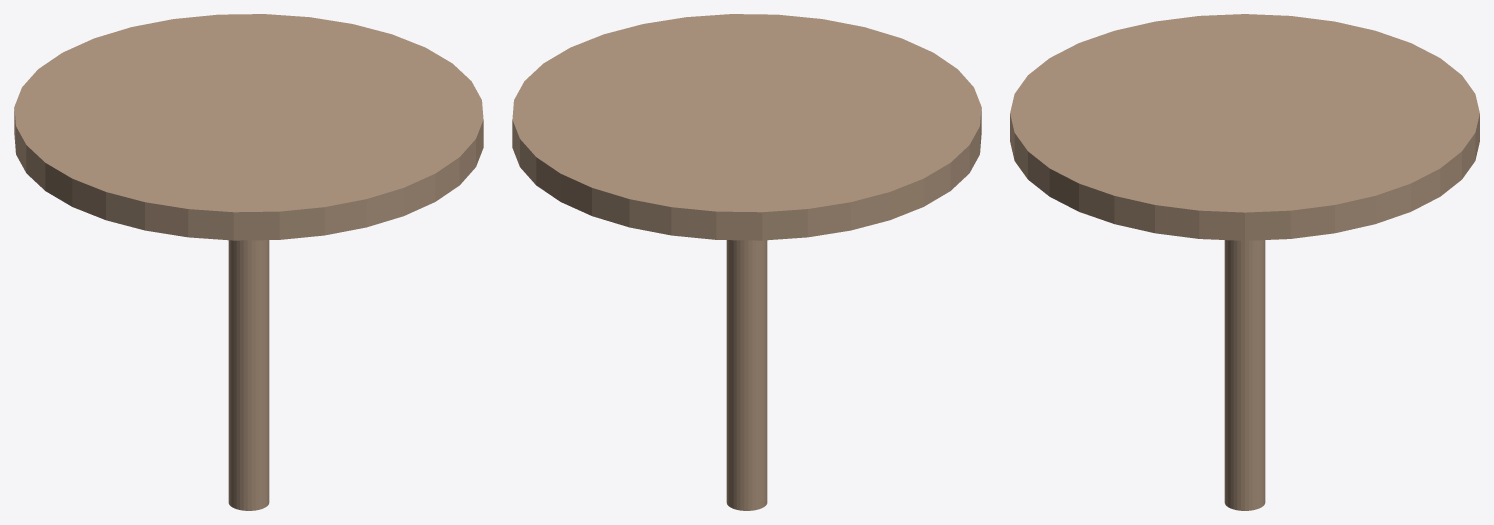
File: field.fbx
3 views of the same model, side by side, from view 1: azimuth 30°, elevation 25°; view 2: azimuth 150°, elevation 25°; view 3: azimuth 270°, elevation 25° (orthographic).
Parts seen in each view (by area): view 1: 圓柱體.001, 圓柱體; view 2: 圓柱體.001, 圓柱體; view 3: 圓柱體.001, 圓柱體.
Part boxes in pixels (x1=…): 圓柱體.001: x1=14, y1=14, x2=483, y2=240; 圓柱體: x1=228, y1=240, x2=269, y2=510; 圓柱體.001: x1=512, y1=14, x2=981, y2=240; 圓柱體: x1=726, y1=240, x2=767, y2=510; 圓柱體.001: x1=1010, y1=14, x2=1479, y2=240; 圓柱體: x1=1224, y1=240, x2=1265, y2=510.
Bounding box in the file's own units: 51.29 × 46.87 × 51.29.
